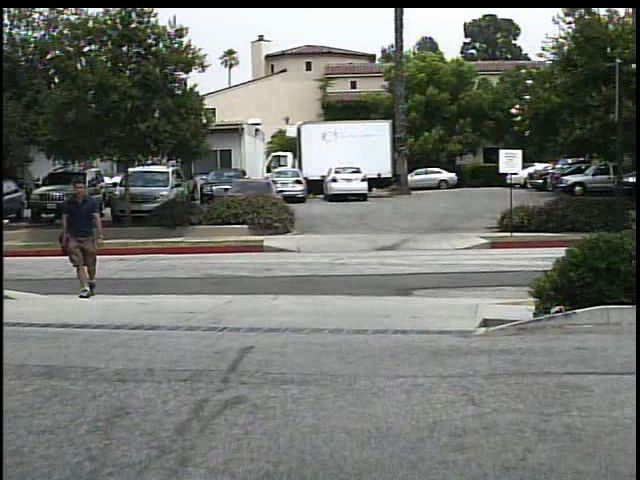person: (59, 178, 110, 300)
